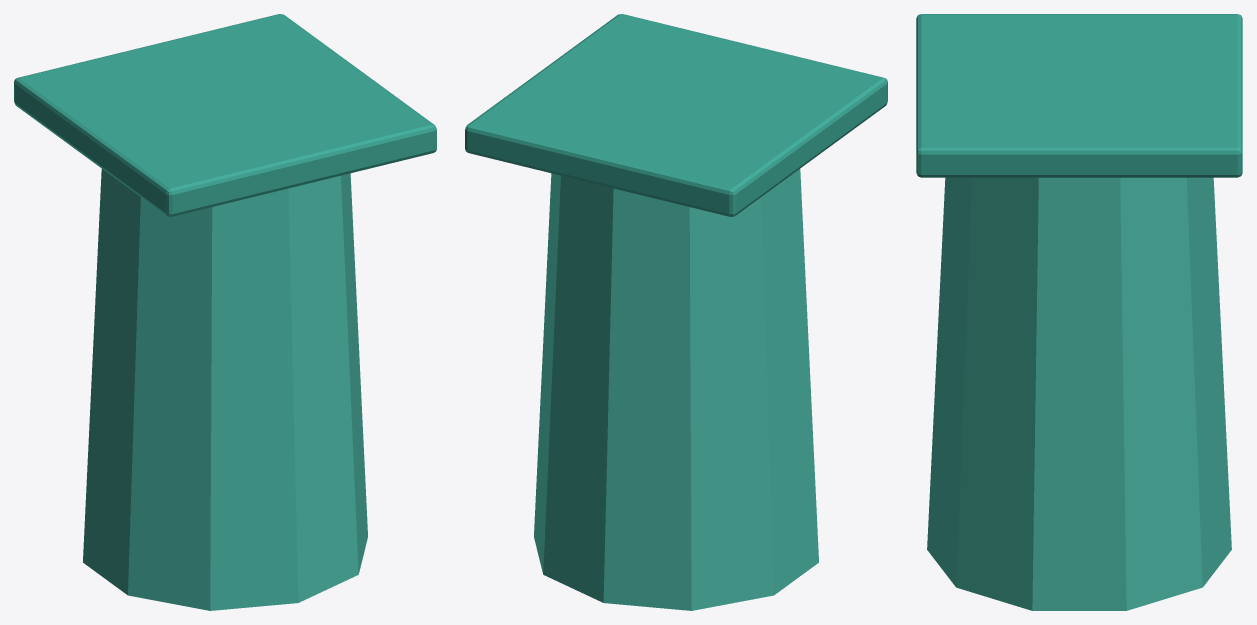
Rendered from Parkour_Bin.fbx.
The picture shows the model from 3 angles, left to right: view 1: azimuth 30°, elevation 25°; view 2: azimuth 150°, elevation 25°; view 3: azimuth 270°, elevation 25°; orthographic projection. The views are drawn at different scales.
Visible parts, largest first — view 1: Bin; view 2: Bin; view 3: Bin.
Part boxes in pixels (<box>): Bin: <box>14,14,436,610</box>; Bin: <box>465,14,887,610</box>; Bin: <box>916,14,1242,610</box>.
Size of the model in its own units: 0.6 by 0.95 by 0.6.
